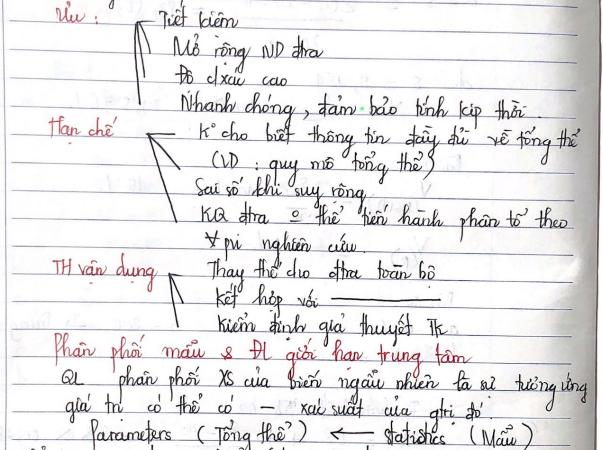text: (115, 363, 589, 412), (51, 330, 475, 382), (198, 121, 582, 167), (197, 199, 570, 243), (178, 90, 528, 129), (215, 311, 450, 348), (208, 147, 436, 185), (204, 257, 437, 293), (192, 172, 368, 215), (87, 416, 309, 450), (297, 395, 486, 433), (171, 33, 326, 74), (204, 229, 358, 268), (63, 392, 236, 424), (382, 418, 535, 450), (51, 252, 159, 294), (214, 281, 322, 319), (172, 62, 289, 95), (156, 5, 240, 39), (44, 114, 118, 145), (50, 0, 100, 25), (58, 368, 86, 387)
